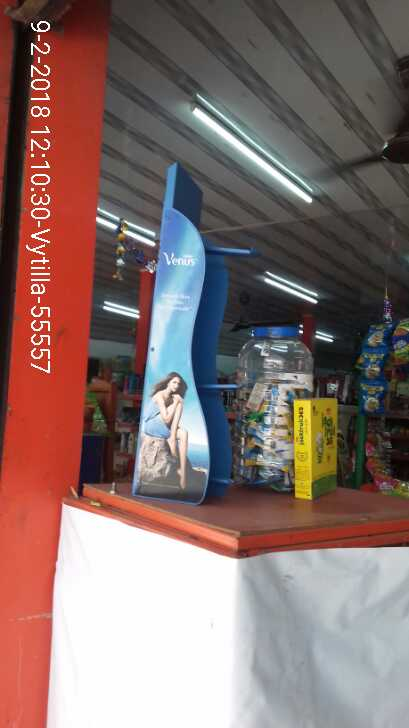reject: (150, 337, 278, 464)
